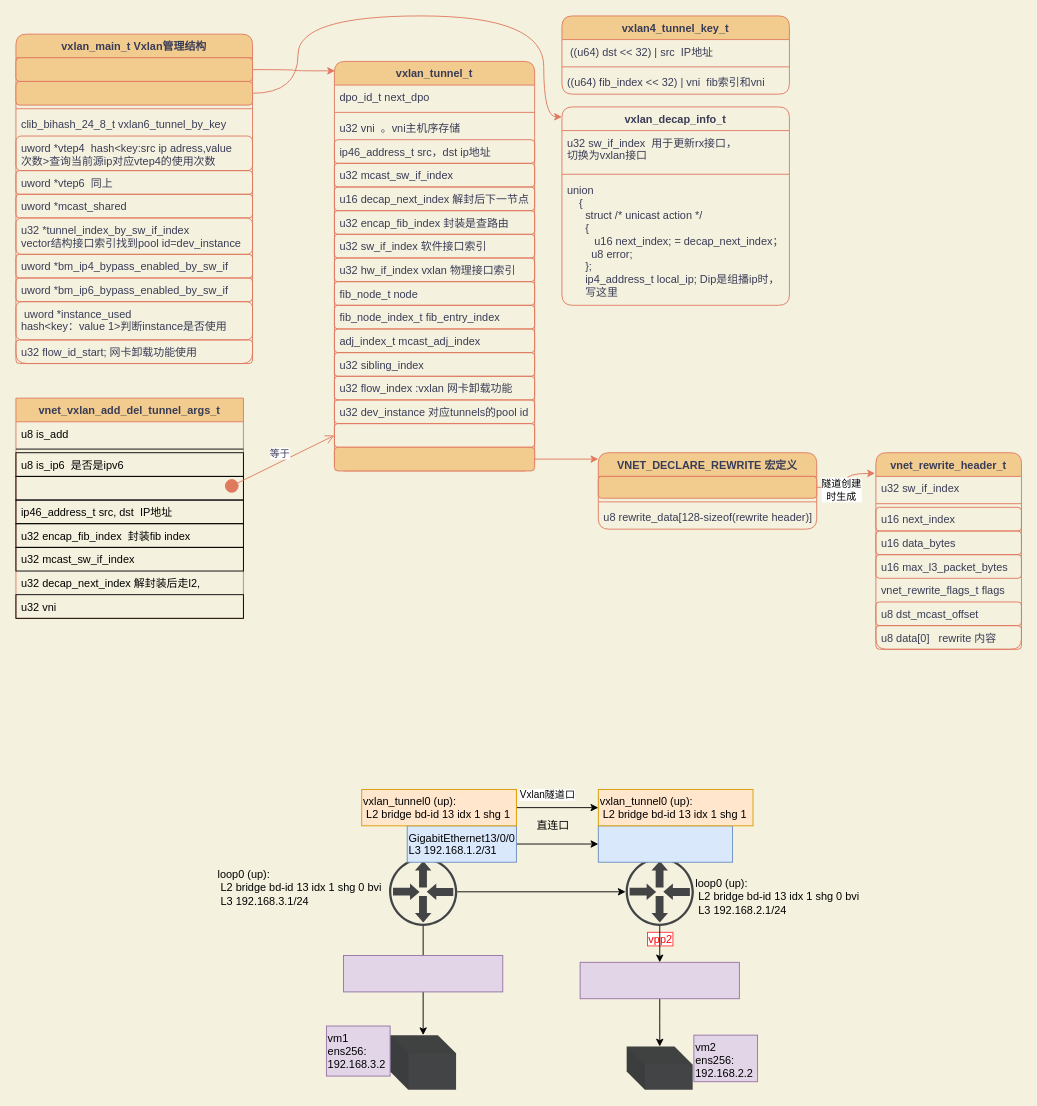
The diagram is 1037 pixels wide and 1106 high, and some of its shapes have lost their labels. Here are the shapes that lost their labels. From the top down, the centre of each, then its label:
At point (134, 69): "vxlan_tunnel_t *tunnels vxlan pool池".
At point (134, 93): "clib_bihash_16_8_t vxlan4_tunnel_by_key".
At point (434, 435): "u32 user_instance 用户配置instance".
At point (434, 458): "VNET_DECLARE_REWRITE".
At point (129, 487): "u32 instance vxlan 接口的id".
At point (707, 486): "vnet_rewrite_header_t rewrite_header".
At point (665, 843): "GigabitEthernet13/0/0 (up): L3 192.168.1.3/31".
At point (423, 891): "vpp1".
At point (423, 973): "GigabitEthernetb/0/0 (up): L2 bridge bd-id 13 idx 1 shg 1".
At point (659, 980): "GigabitEthernet4/0/0 (up): L2 bridge bd-id 13 idx 1 shg 1".
